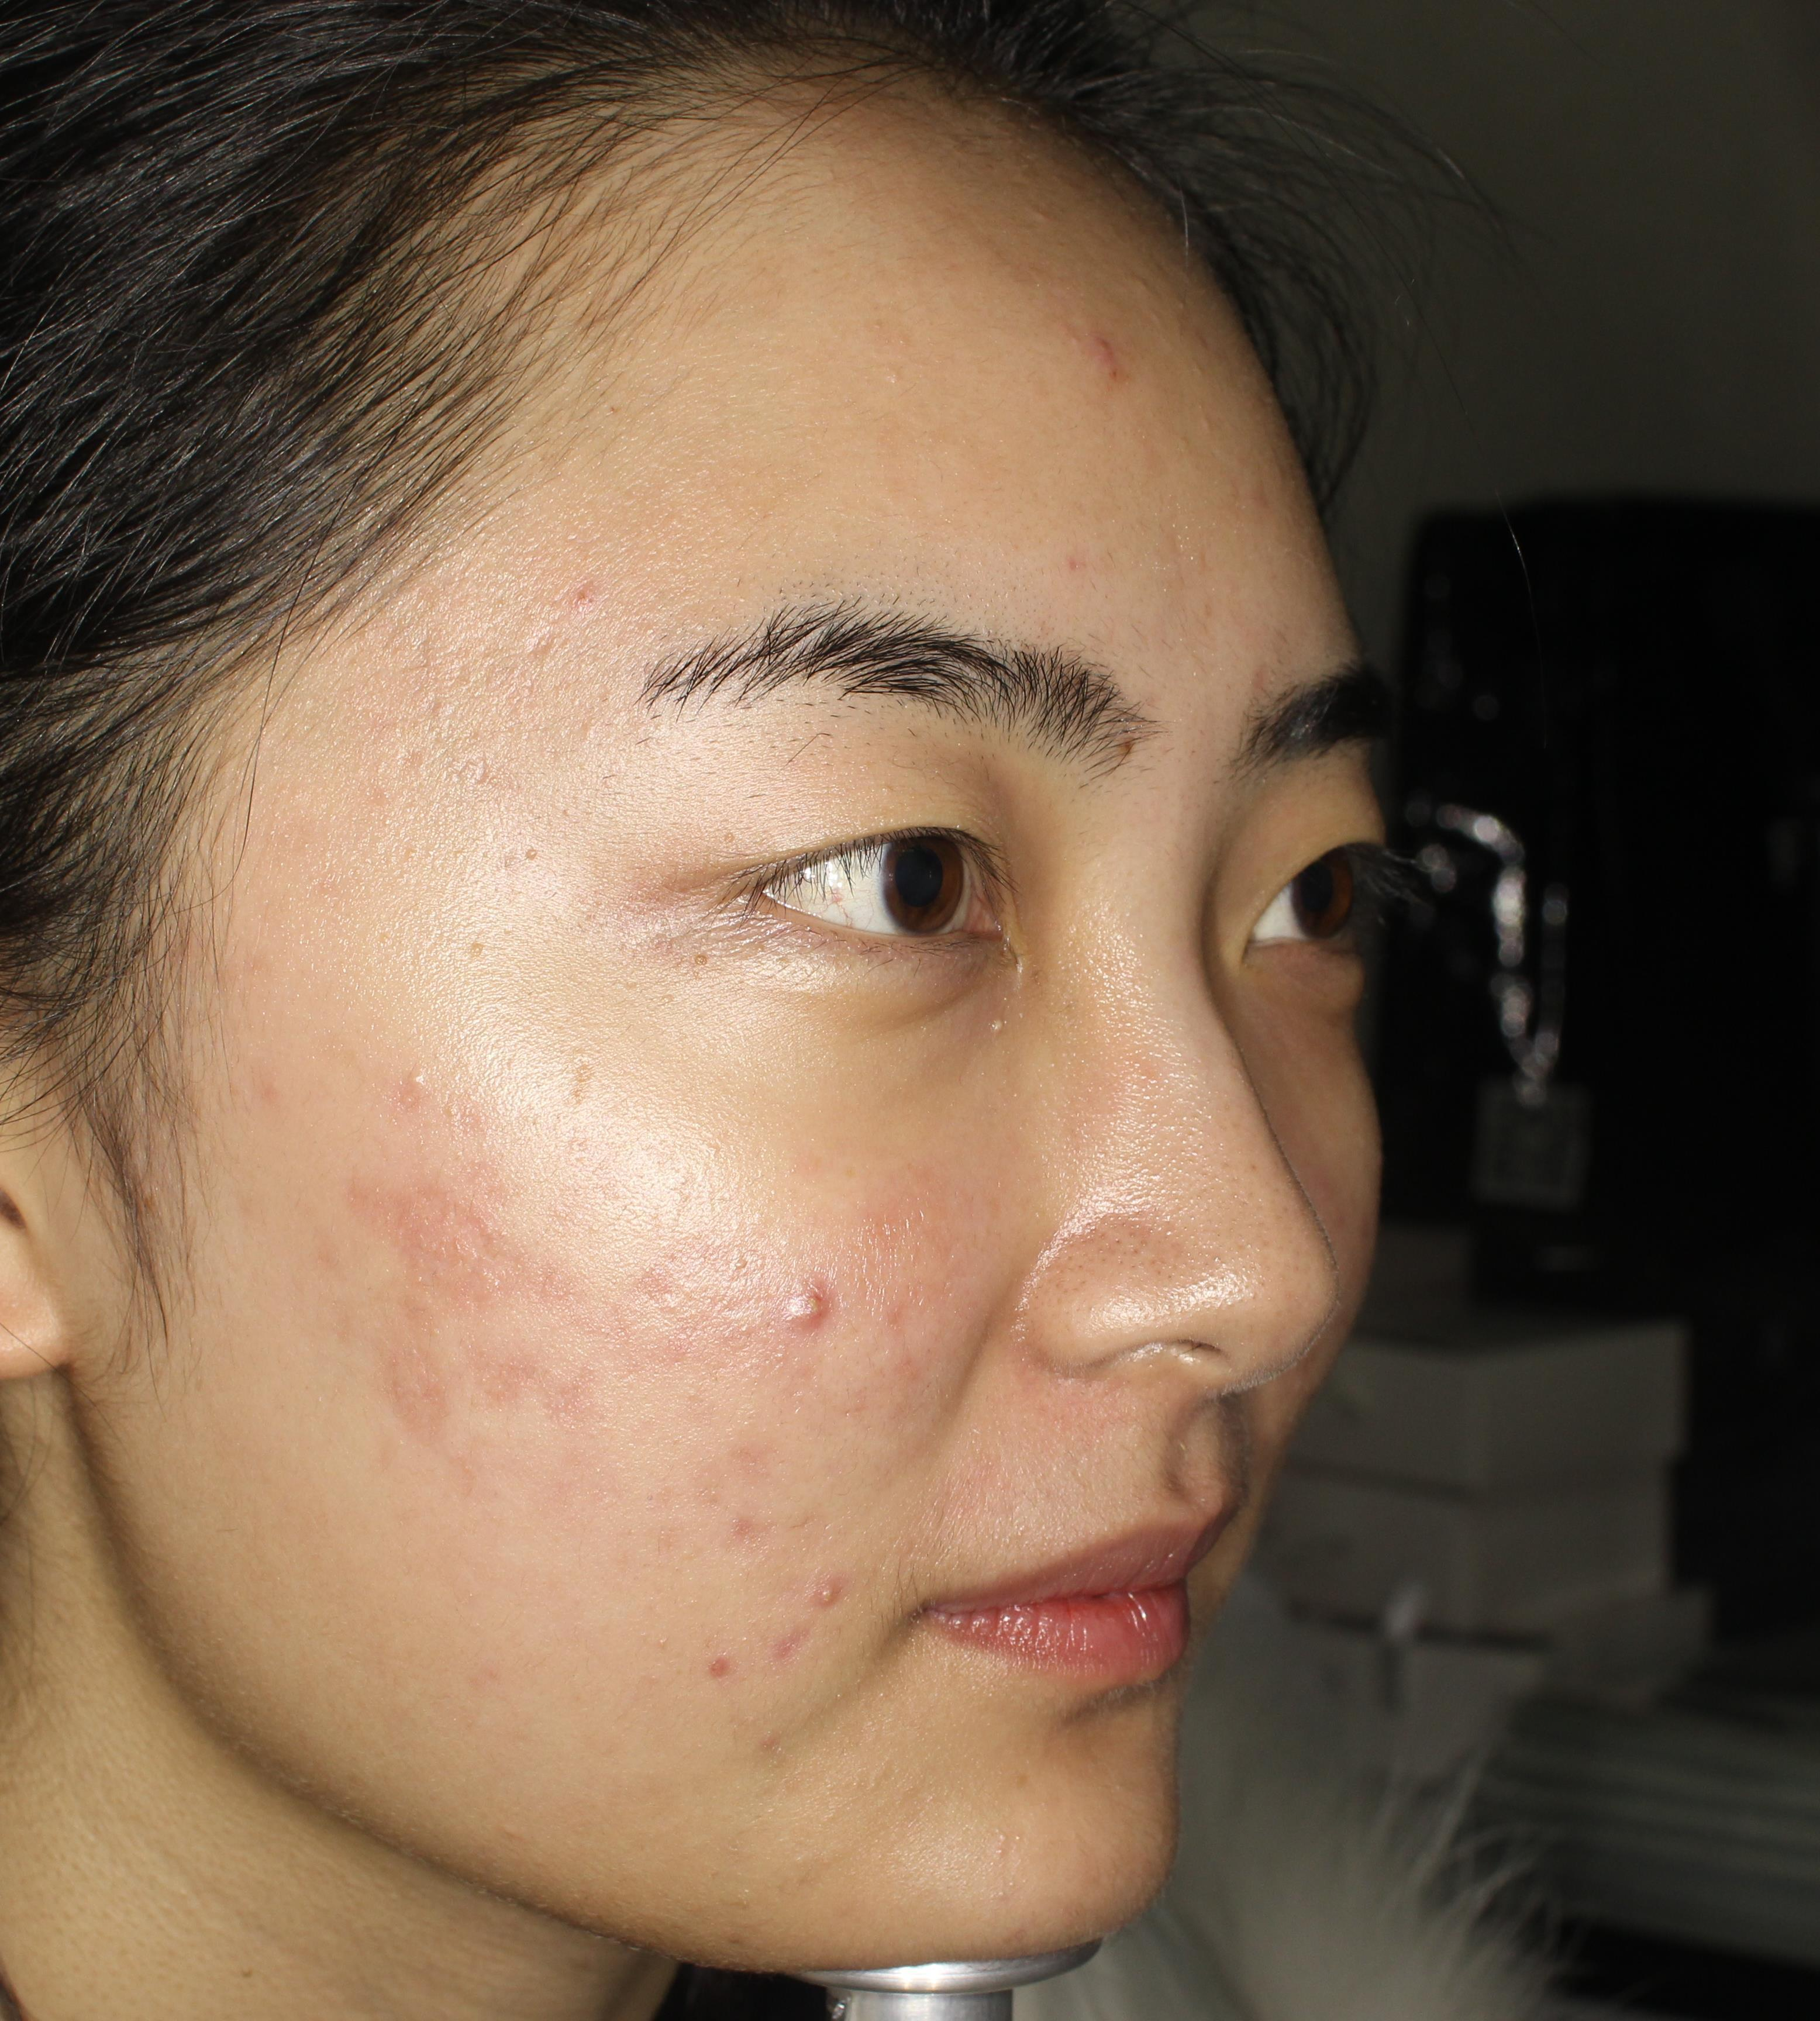fore: (1059, 298, 1161, 420), (745, 1248, 840, 1338), (710, 1473, 780, 1580), (427, 1164, 476, 1240), (817, 1545, 852, 1649), (754, 1612, 794, 1687)
